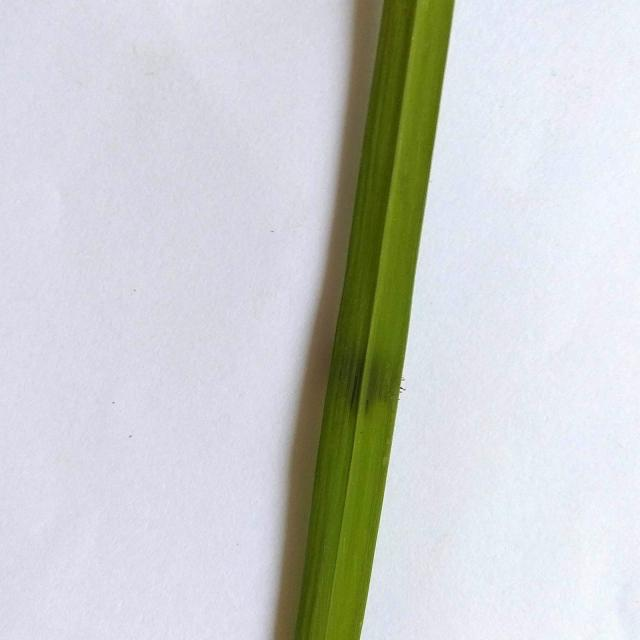healthy: (281, 0, 532, 638)
